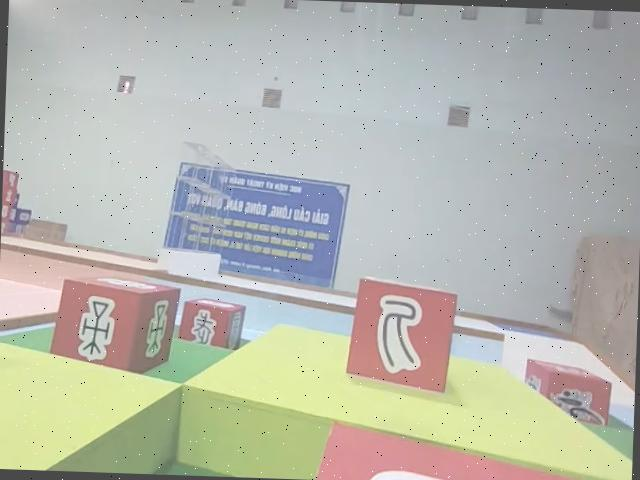R1: (524, 357, 612, 434)
R2 Fake: (344, 278, 456, 394), (176, 297, 246, 355)
R2 Real: (46, 273, 180, 372)
